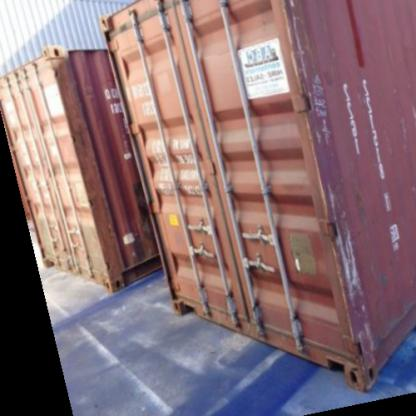Damage: (296, 2, 318, 90), (340, 221, 358, 308), (322, 186, 352, 223), (357, 314, 381, 356)
